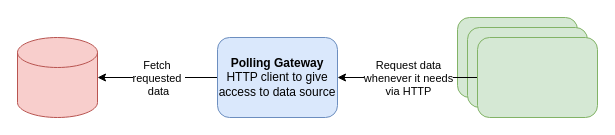
This 615x135 diagram has some shape labels left out. The shapes that lost their labels are listed below. From the top down, each one's centre as x and y in pixels, then its label:
point (57, 77): Data Source
point (537, 77): Clients Request for data as needed
